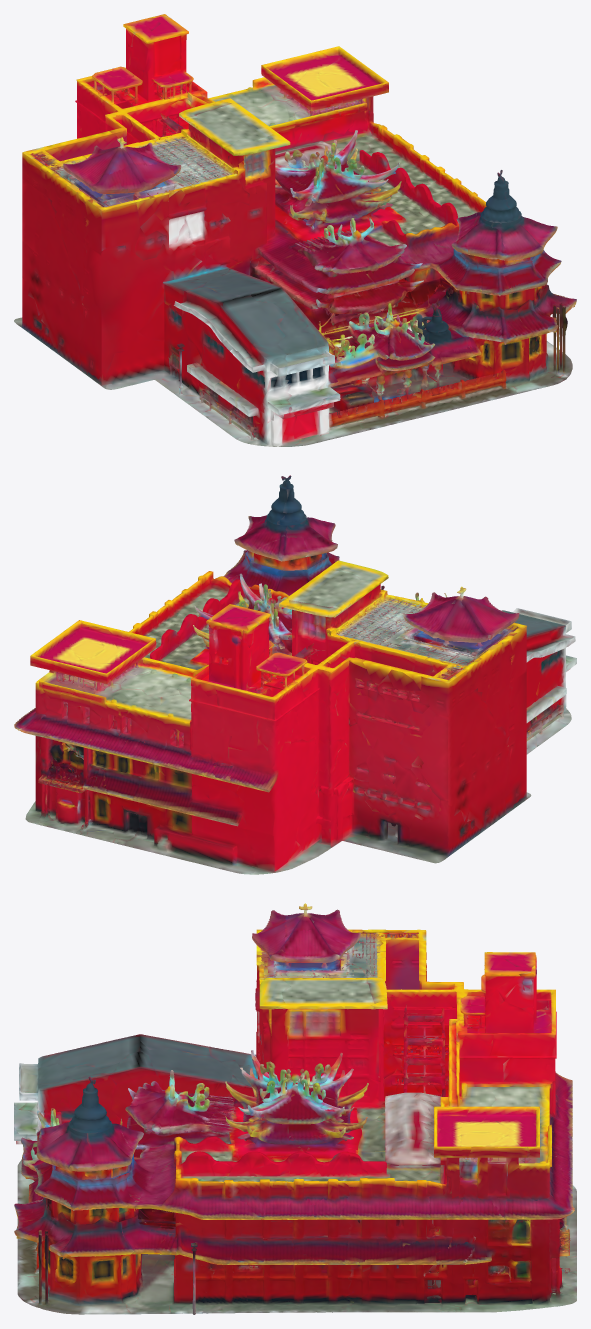
The model's file is vihara-widhi-sakti.glb.
3 renders of one model, top to bottom at view 1: azimuth 30°, elevation 25°; view 2: azimuth 150°, elevation 25°; view 3: azimuth 270°, elevation 25°, orthographic. The views are drawn at different scales.
Bounding box in the file's own units: 1.6 × 0.9117 × 1.9.
1 material, 1 textured.
